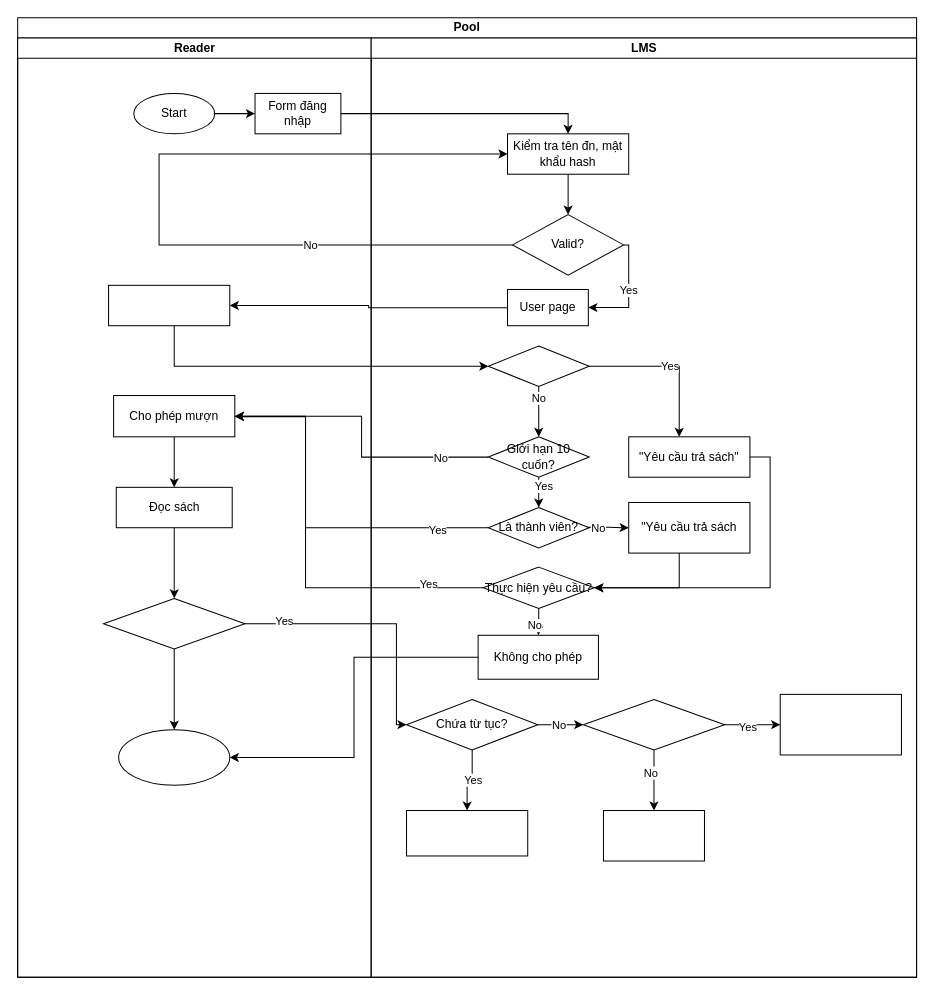
Image size: 934x995. Some labels were removed from this diagram. The shapes that lost their labels are listed below. From the top down, each one's centre as x and y in pixels, then its label:
At pixel 169 305: "Tìm sách + đọc sách".
At pixel 538 365: "Có sách quá hạn?".
At pixel 174 623: "Review?".
At pixel 653 724: "Đúng chuẩn mực?".
At pixel 840 724: "Lưu vào danh sách hiển thị".
At pixel 174 757: "End".
At pixel 467 833: "Tự động xóa".
At pixel 653 835: "Xóa, thông báo cho người dùng".
